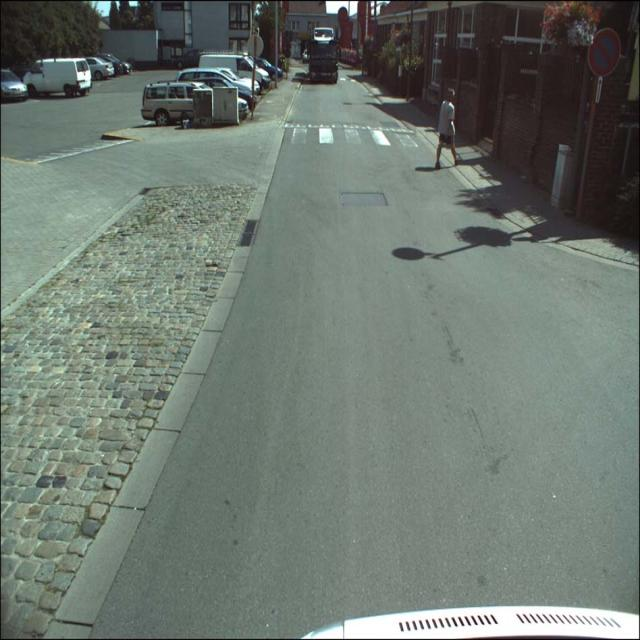parkyasak: (588, 28, 622, 76)
